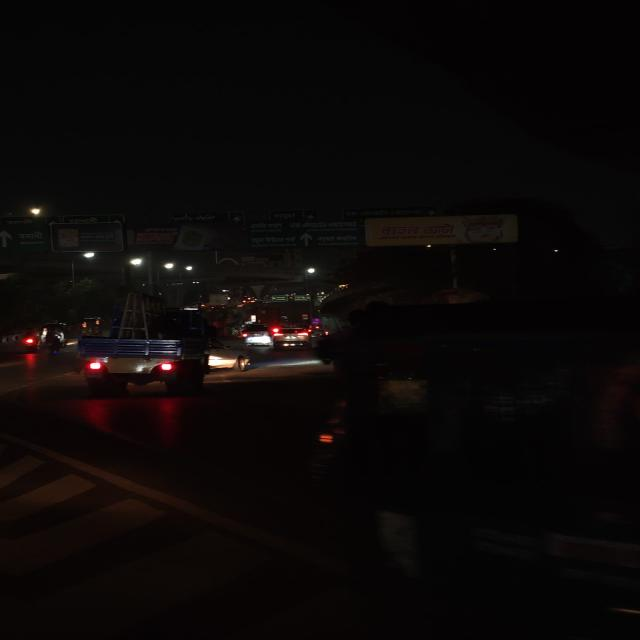car: (206, 336, 253, 374), (237, 322, 290, 348), (264, 322, 312, 349)
cng: (78, 316, 105, 332)
motorcycle: (14, 327, 43, 353)
pickup_van: (74, 291, 214, 385)
